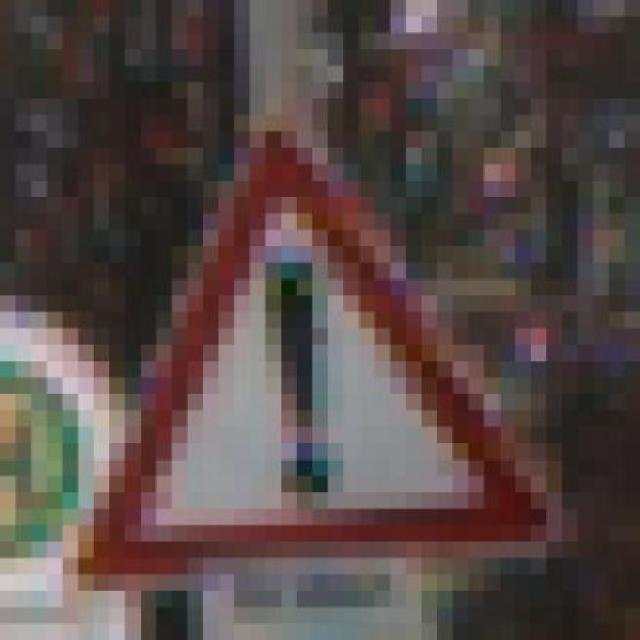Attention Please-: (31, 98, 578, 591)
